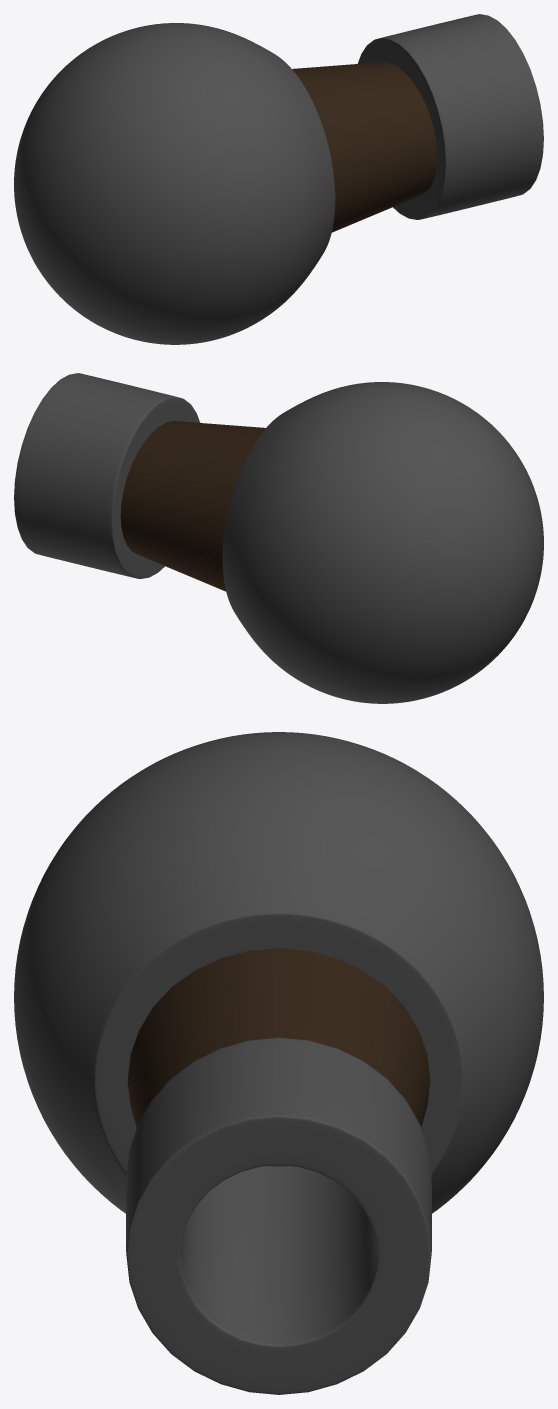
The model's file is CannonFinal.fbx.
3 views of the same model, one above another, from view 1: azimuth 30°, elevation 25°; view 2: azimuth 150°, elevation 25°; view 3: azimuth 270°, elevation 25° (orthographic). The views are drawn at different scales.
Visible parts, largest first — view 1: Cannon; view 2: Cannon; view 3: Cannon.
Part boxes in pixels (x1,y1,x2,y2): Cannon: [14, 14, 543, 344]; Cannon: [14, 373, 543, 703]; Cannon: [14, 732, 543, 1394].
Size of the model in its own units: 105 by 63.15 by 63.15.
